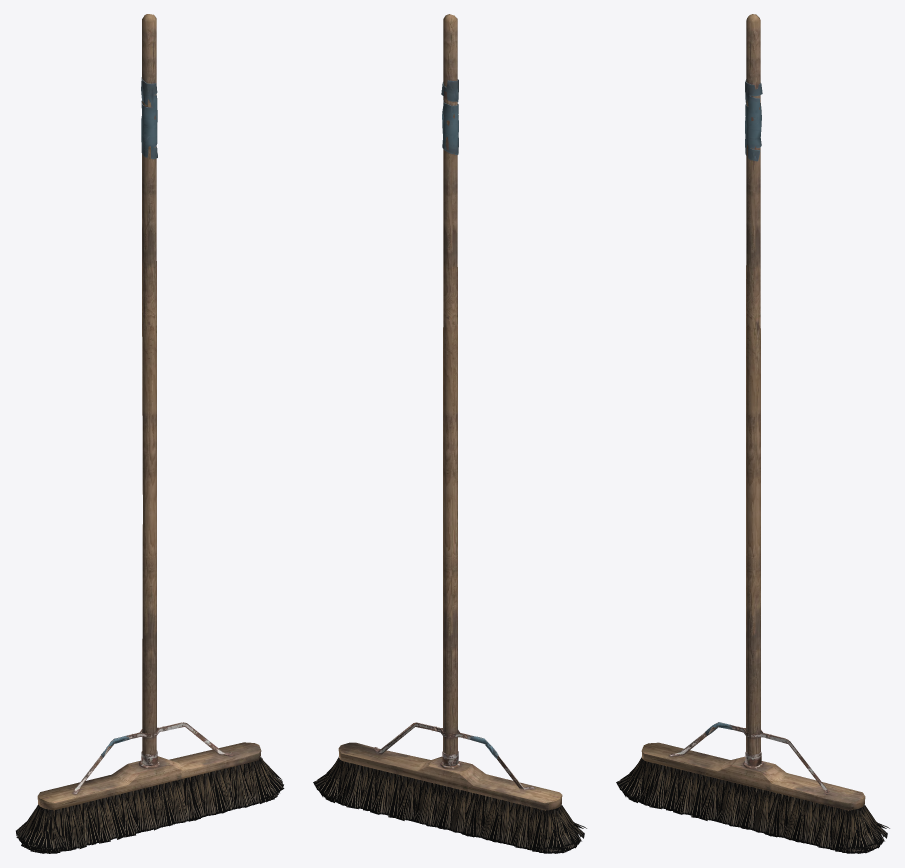
The model's file is escoba.glb.
3 views of the same model, side by side, from view 1: azimuth 30°, elevation 25°; view 2: azimuth 150°, elevation 25°; view 3: azimuth 330°, elevation 25° (orthographic).
Parts seen in each view (by area): view 1: wooden_broom_handle, wooden_broom_bristles; view 2: wooden_broom_handle, wooden_broom_bristles; view 3: wooden_broom_handle, wooden_broom_bristles.
Boxes of the visible parts, x1,y1,x2,y2 form: wooden_broom_handle: (37, 14, 261, 810); wooden_broom_bristles: (16, 757, 284, 853); wooden_broom_handle: (338, 14, 562, 810); wooden_broom_bristles: (313, 757, 586, 853); wooden_broom_handle: (641, 14, 865, 810); wooden_broom_bristles: (616, 757, 889, 853).
Size of the model in its own units: 0.4902 by 1.45 by 0.1125.
Materials: 2 (2 with a texture image).
